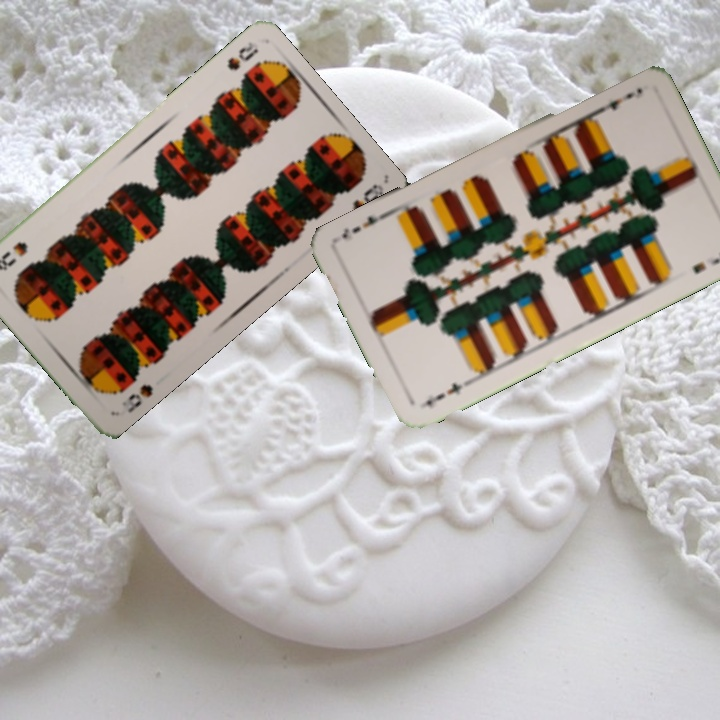E7: (421, 378, 465, 412), (592, 88, 636, 117)
S8: (223, 37, 262, 73), (123, 380, 155, 416)
